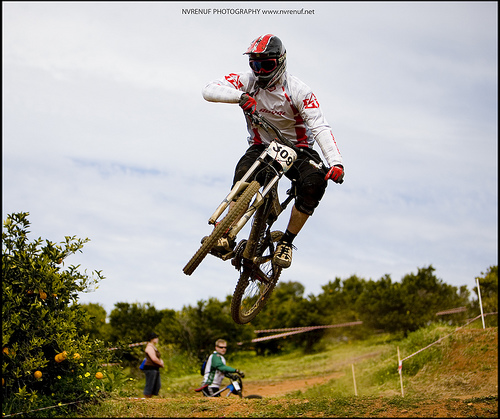helmet: (245, 40, 290, 82)
